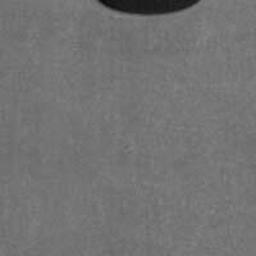Punching: (95, 0, 200, 15)
